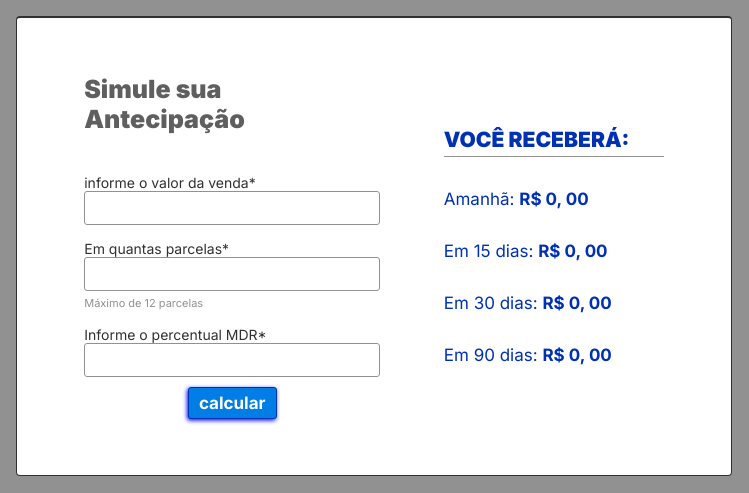
Form component › should show error message when submit form with invalid values
The width and height of the screenshot is (749, 493).
Type "999" into the field below "informe o valor da venda*" at (232, 208), box [84,191,380,225]
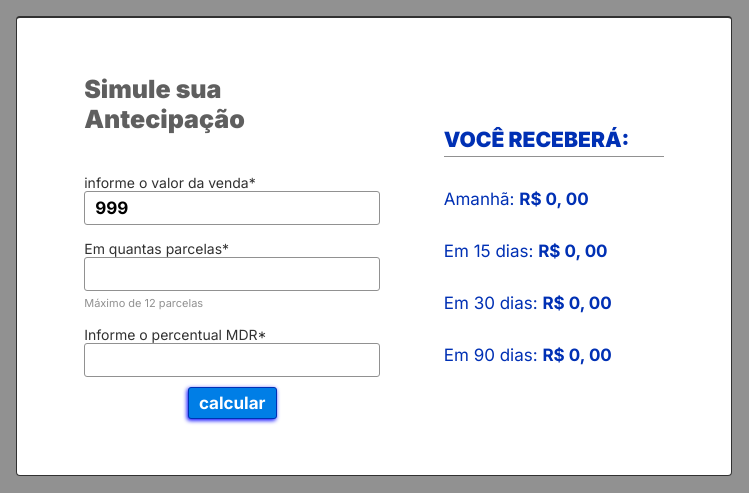
Type "13" into the field below "Em quantas parcelas*" at (232, 274), box [84,257,380,291]
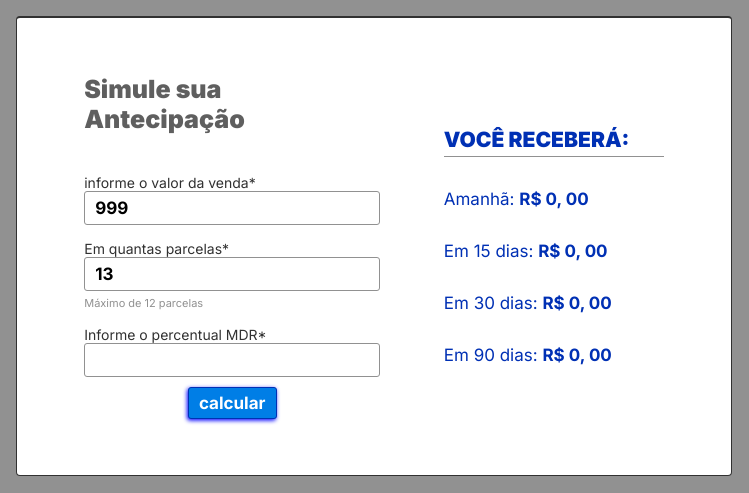
Type "101" into the field below "Informe o percentual MDR*" at (232, 360), box [84,343,380,377]
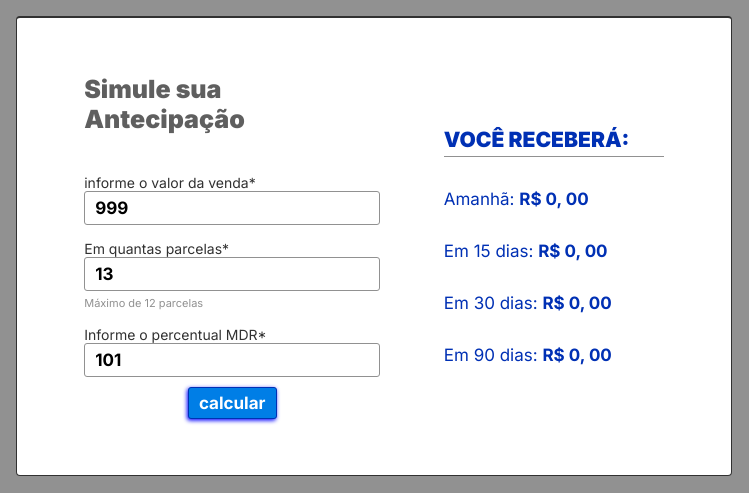
Click the button "calcular" at (232, 403), box [188,387,276,419]
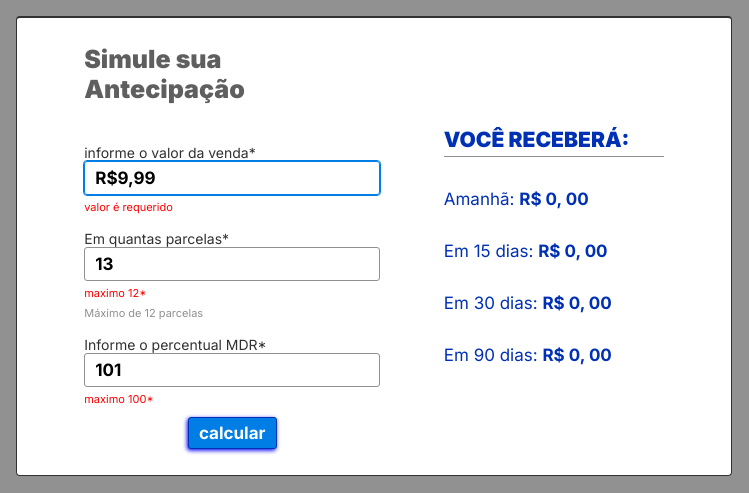
Result: the text "maximo 12*" is shown at [84,286,146,300]
Result: the text "maximo 100*" is shown at [84,392,154,406]
